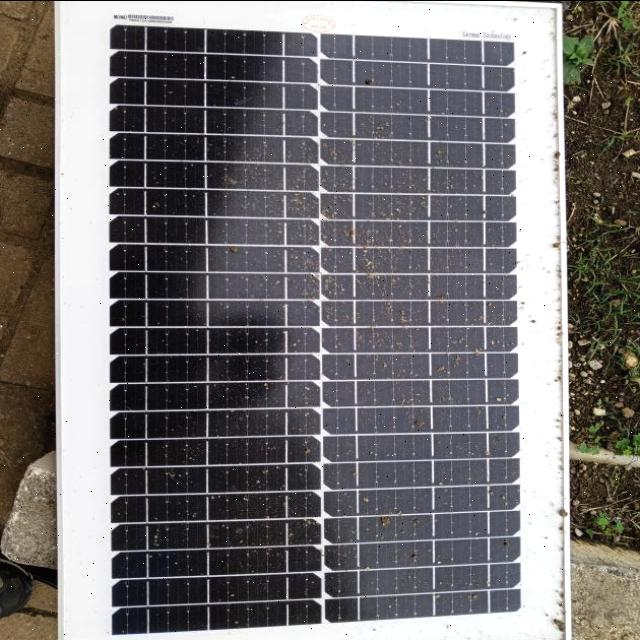Surface Contaminant: (75, 37, 527, 637)
